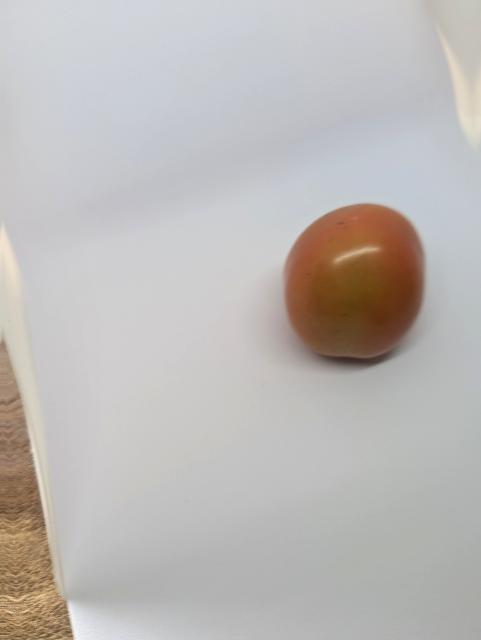turning: (271, 190, 437, 374)
